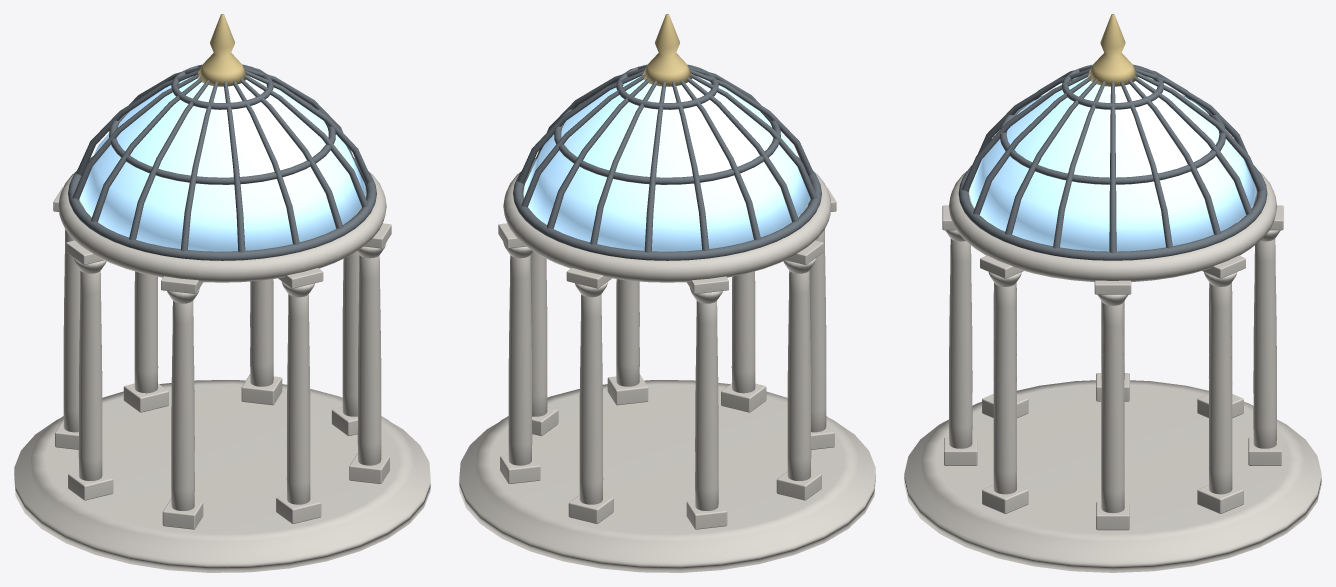
File: webtoon-royal-conservatory-dome-gazebo-v15.glb
The picture shows the model from 3 angles, left to right: view 1: azimuth 30°, elevation 25°; view 2: azimuth 150°, elevation 25°; view 3: azimuth 270°, elevation 25°; orthographic projection.
Visible parts, largest first — view 1: ConservatoryStoneColonnade.001, ConservatoryDomeGlass.001, ConservatoryBronzeRibs.001, ConservatoryGoldFinial.001; view 2: ConservatoryStoneColonnade.001, ConservatoryDomeGlass.001, ConservatoryBronzeRibs.001, ConservatoryGoldFinial.001; view 3: ConservatoryStoneColonnade.001, ConservatoryDomeGlass.001, ConservatoryBronzeRibs.001, ConservatoryGoldFinial.001.
Boxes of the visible parts, x1,y1,x2,y2 form: ConservatoryStoneColonnade.001: (14, 171, 430, 572); ConservatoryDomeGlass.001: (79, 76, 365, 251); ConservatoryBronzeRibs.001: (68, 64, 376, 260); ConservatoryGoldFinial.001: (198, 14, 247, 86); ConservatoryStoneColonnade.001: (459, 171, 875, 572); ConservatoryDomeGlass.001: (524, 76, 810, 251); ConservatoryBronzeRibs.001: (513, 64, 821, 260); ConservatoryGoldFinial.001: (642, 14, 691, 86); ConservatoryStoneColonnade.001: (904, 171, 1321, 572); ConservatoryDomeGlass.001: (969, 77, 1256, 251); ConservatoryBronzeRibs.001: (958, 64, 1267, 260); ConservatoryGoldFinial.001: (1088, 14, 1137, 86).
Size of the model in its own units: 2.96 by 3.68 by 2.96.
